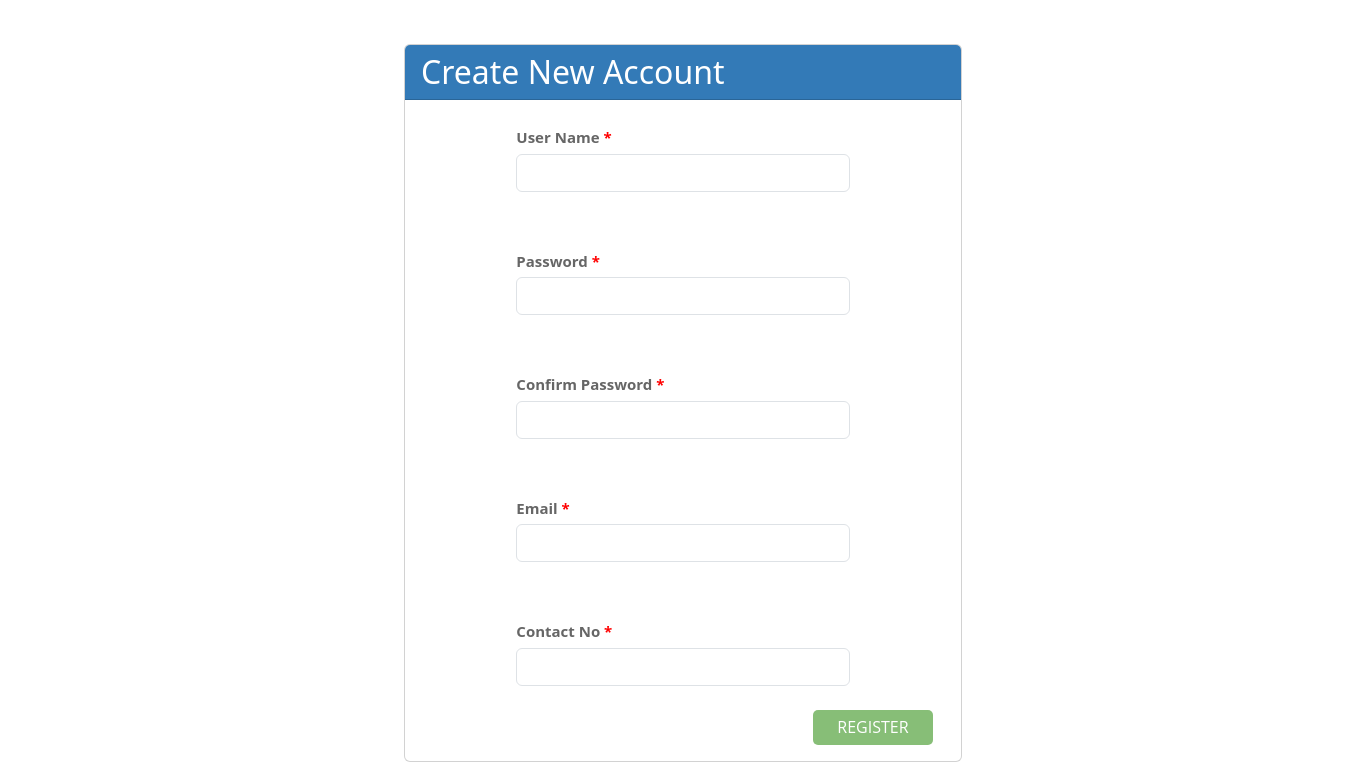
Test case: CreateUser Component › should display dialog when click Register button when all fields are valid
Step 1. Type "MICHEAL" into the field named "User Name" → {"x": 683, "y": 173}, box [516,154,850,192]
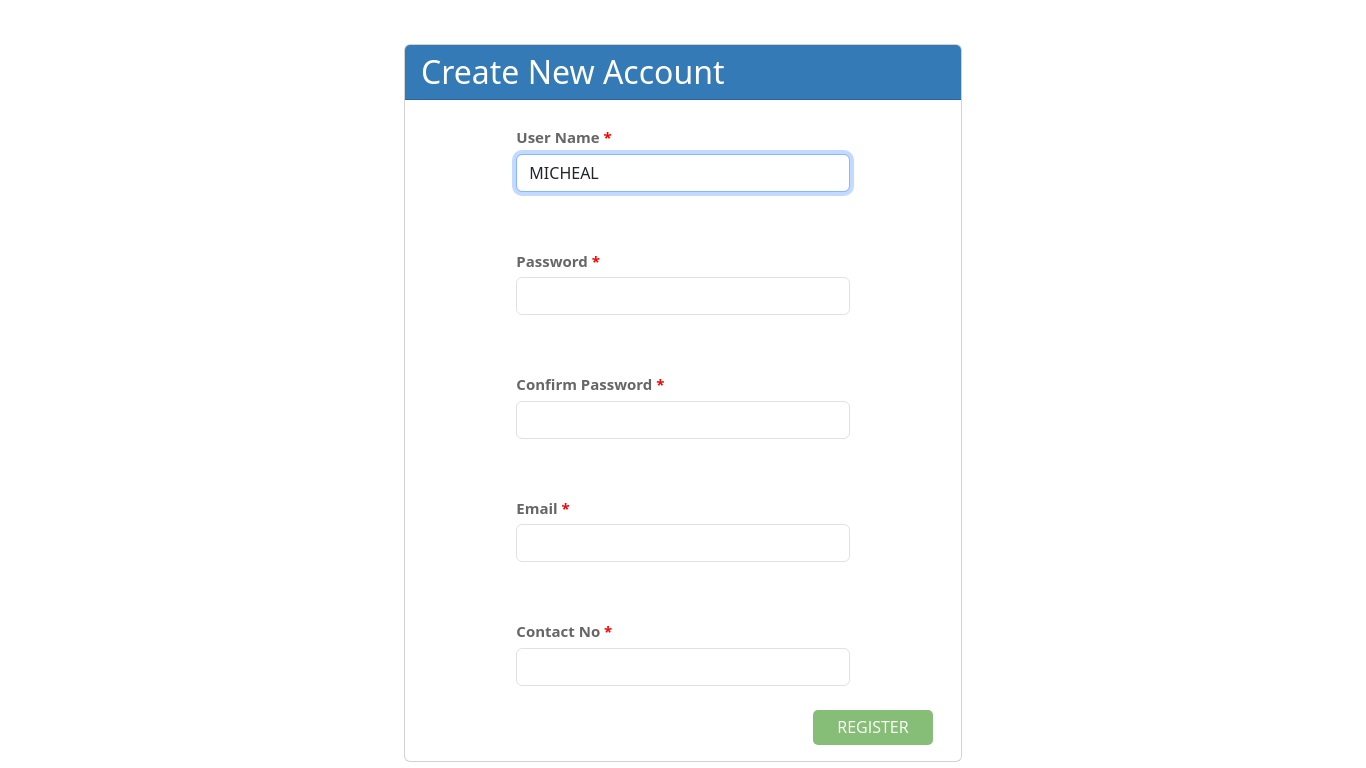
Step 2. Type "password" into the password field named "Password" → {"x": 683, "y": 296}, box [516,277,850,315]
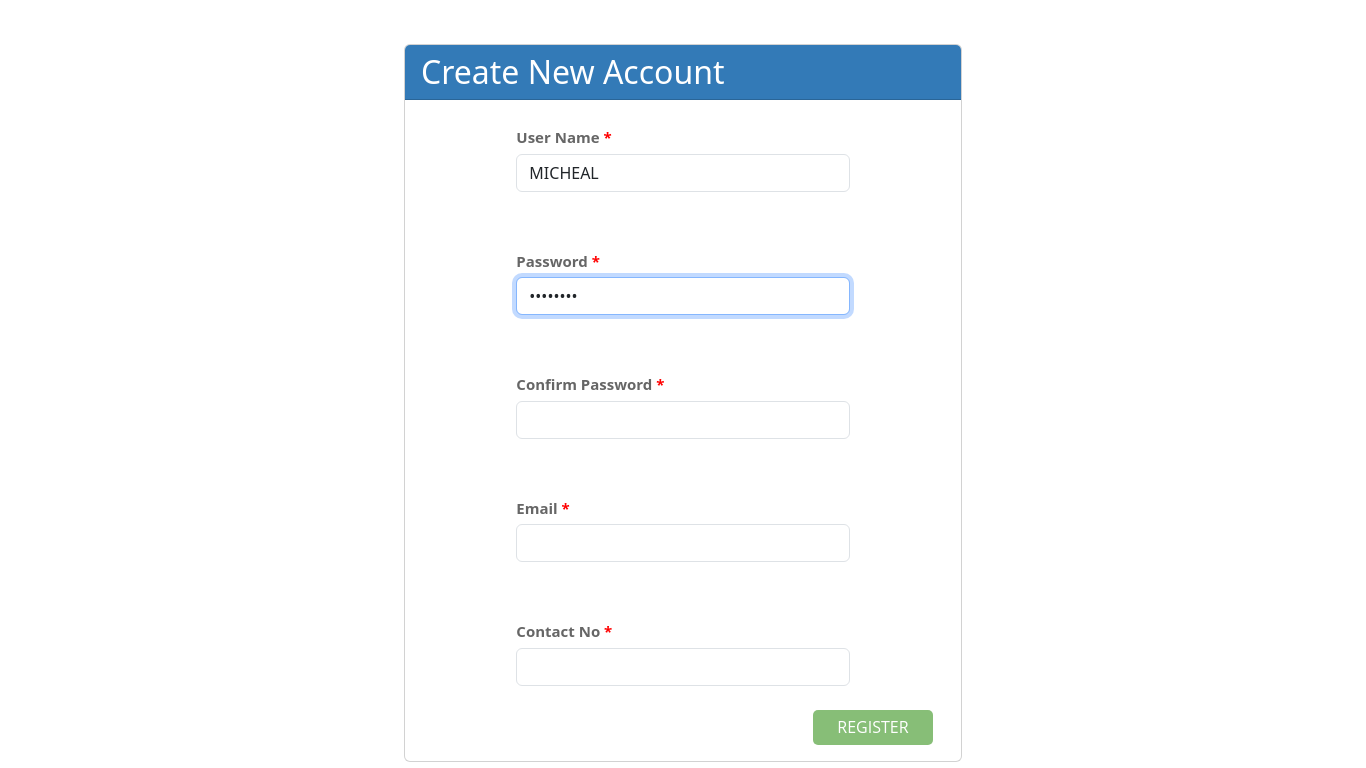
Step 3. Type "password" into the password field named "Confirm Password" → {"x": 683, "y": 420}, box [516,401,850,439]
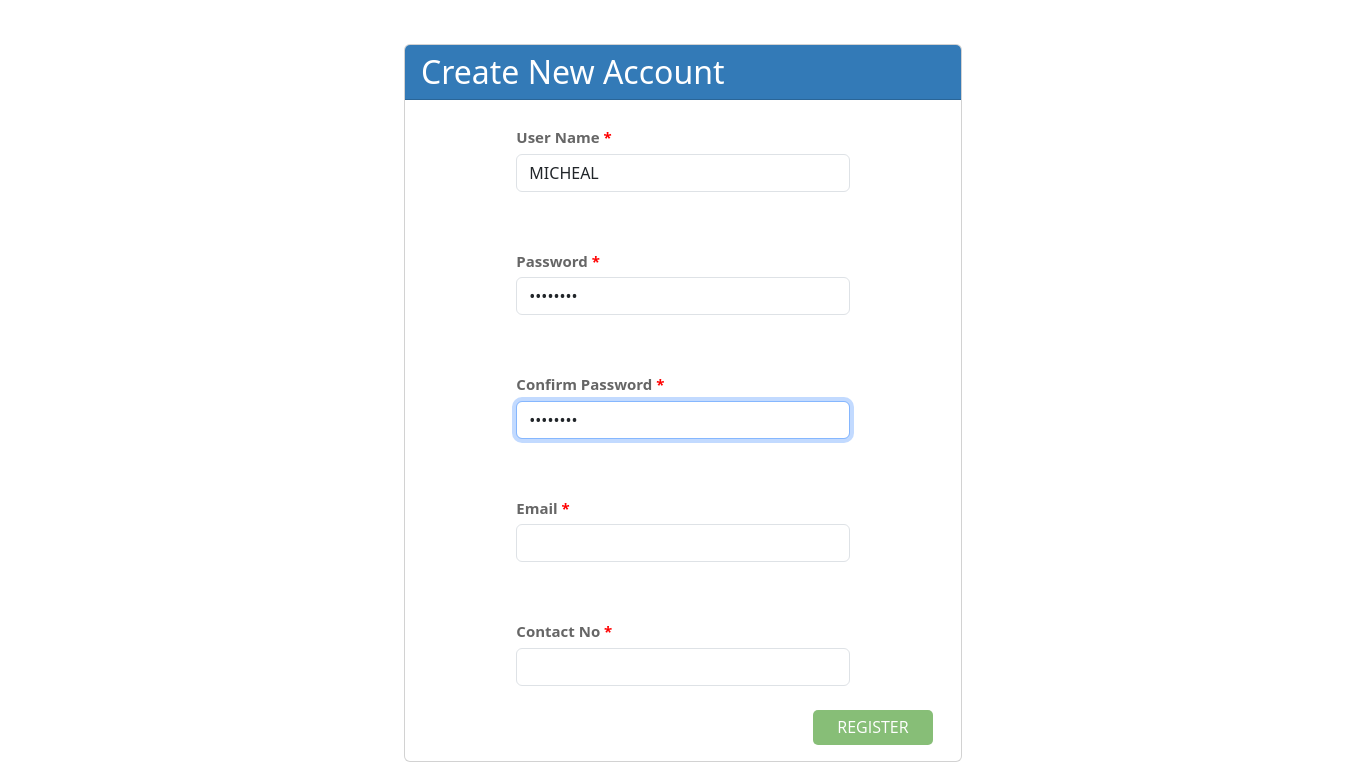
Step 4. Type "TEST@TEST.COM" into the field named "Email" → {"x": 683, "y": 543}, box [516,524,850,562]
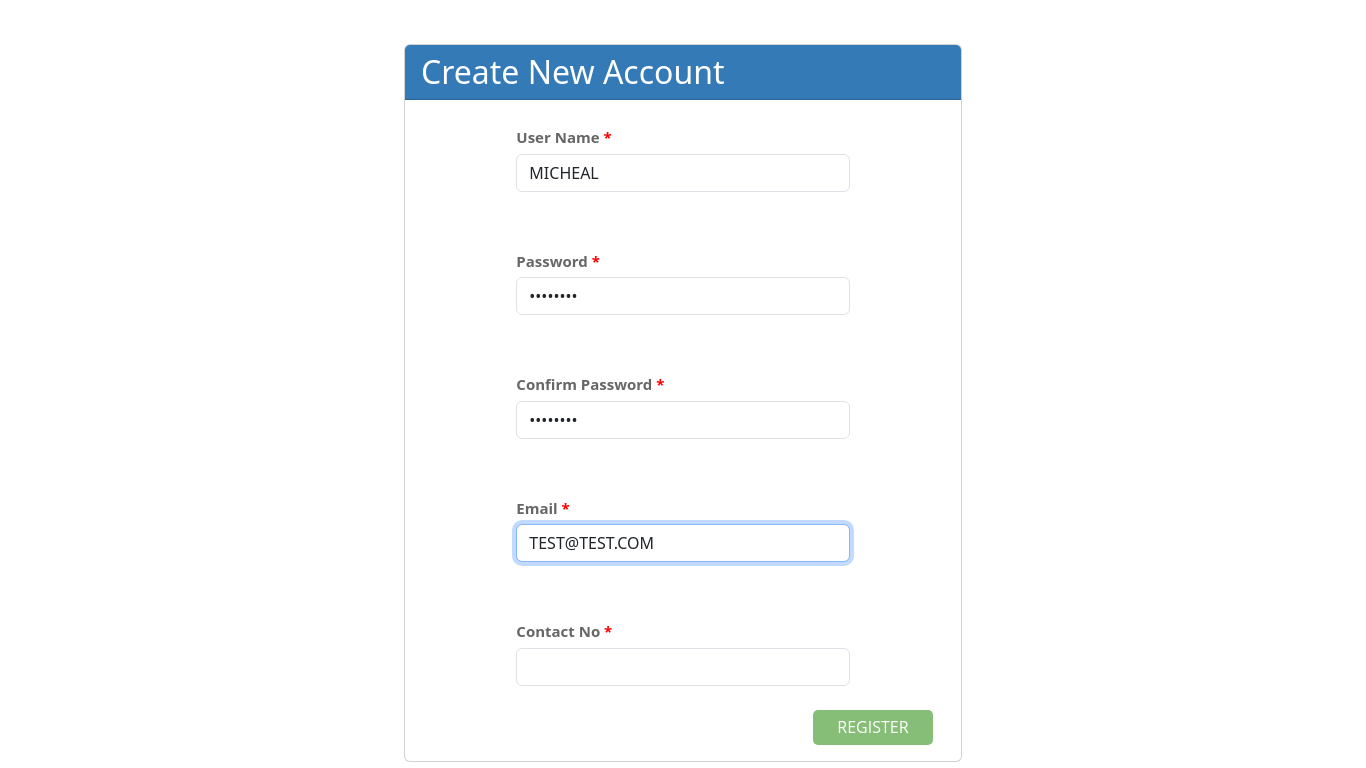
Step 5. Type "90001111" into the field named "Contact No" → {"x": 683, "y": 667}, box [516,648,850,686]
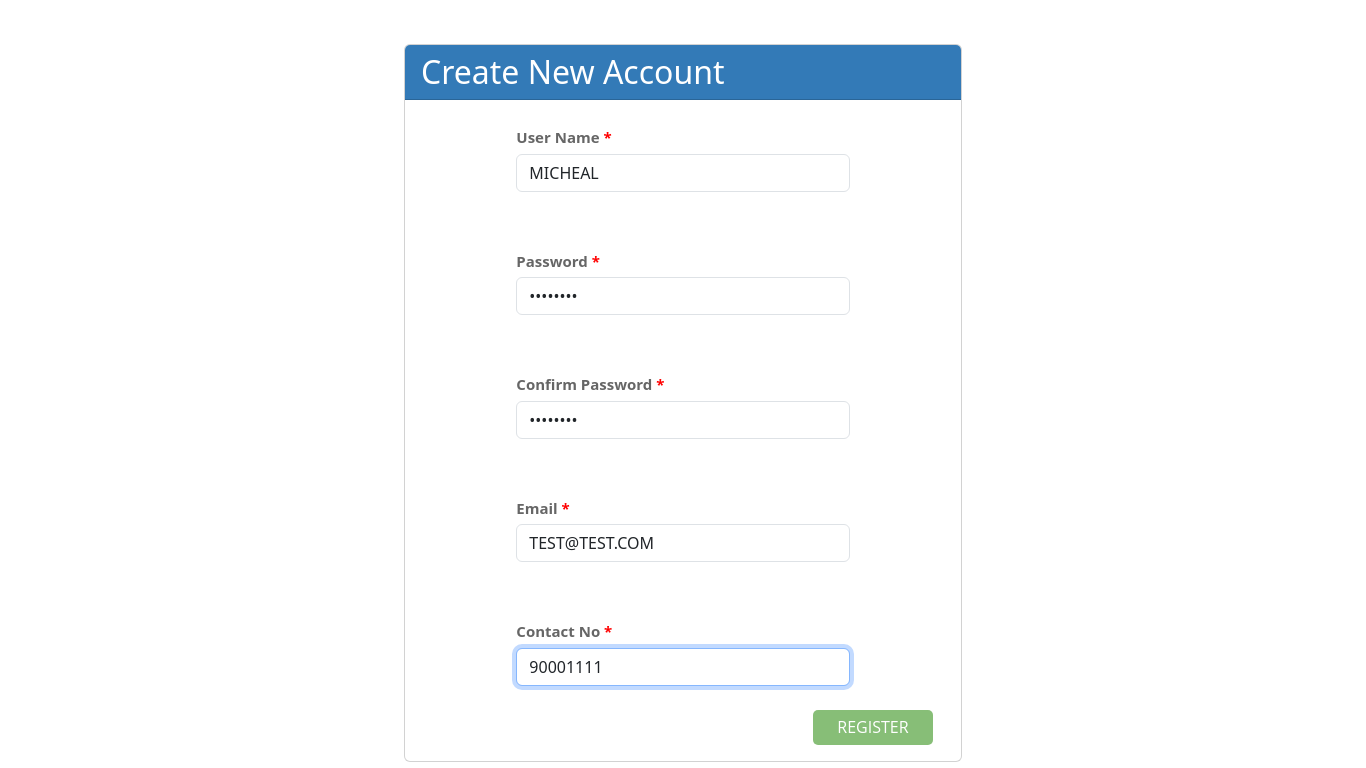
Step 6. Click the button "Register" → {"x": 873, "y": 727}, box [813,710,933,745]
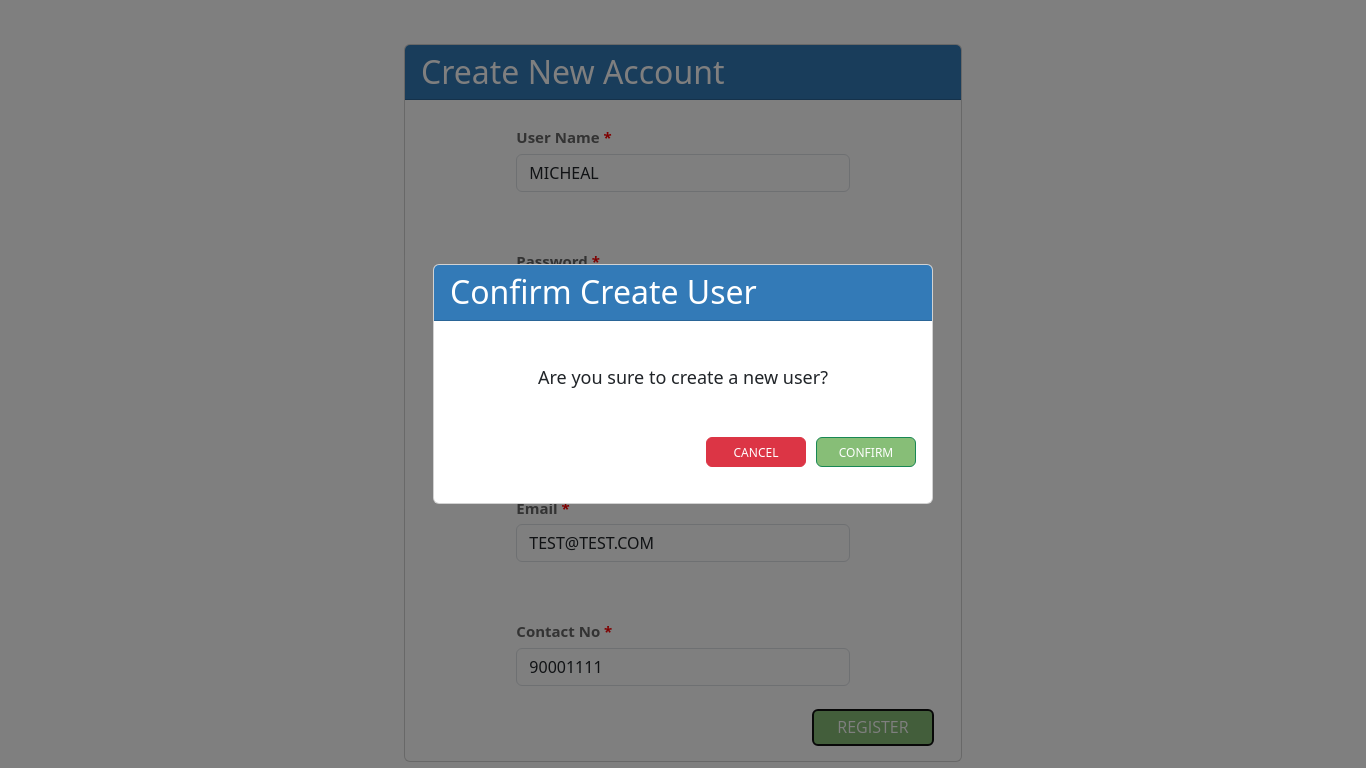
Now the heading "Confirm Create User" is shown, box [450,270,757,313]
Now the text "Are you sure to create a new user?" is shown, box [538,365,828,389]
